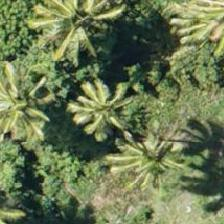coconut_tree: (57, 60, 147, 150), (117, 118, 207, 208), (47, 0, 137, 67), (0, 59, 61, 149)
